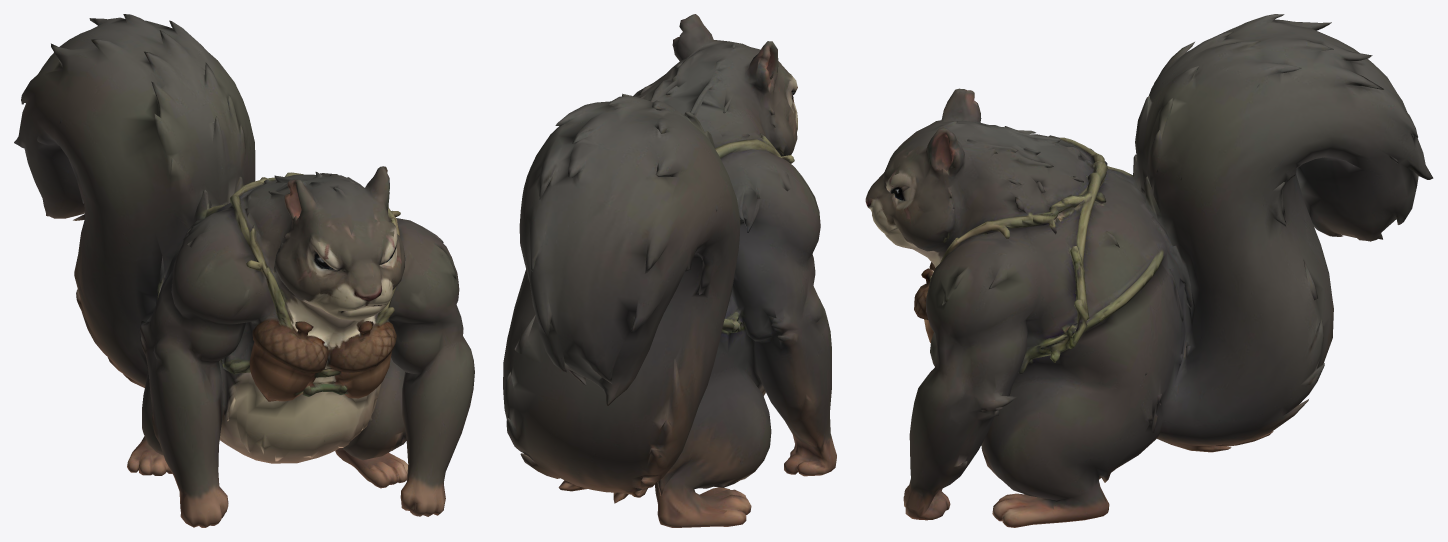
Rendered from bind-mesh.glb.
3 renders of one model, left to right at view 1: azimuth 30°, elevation 25°; view 2: azimuth 150°, elevation 25°; view 3: azimuth 270°, elevation 25°, orthographic. The views are drawn at different scales.
Parts seen in each view (by area): view 1: GuardianBindMesh154; view 2: GuardianBindMesh154; view 3: GuardianBindMesh154.
Part boxes in pixels (left/top/right/bottom): GuardianBindMesh154: left=14, top=14, right=474, bottom=527; GuardianBindMesh154: left=503, top=14, right=836, bottom=527; GuardianBindMesh154: left=865, top=14, right=1433, bottom=527.
Size of the model in its own units: 0.6063 by 0.8524 by 1.05.
1 material, 1 textured.
